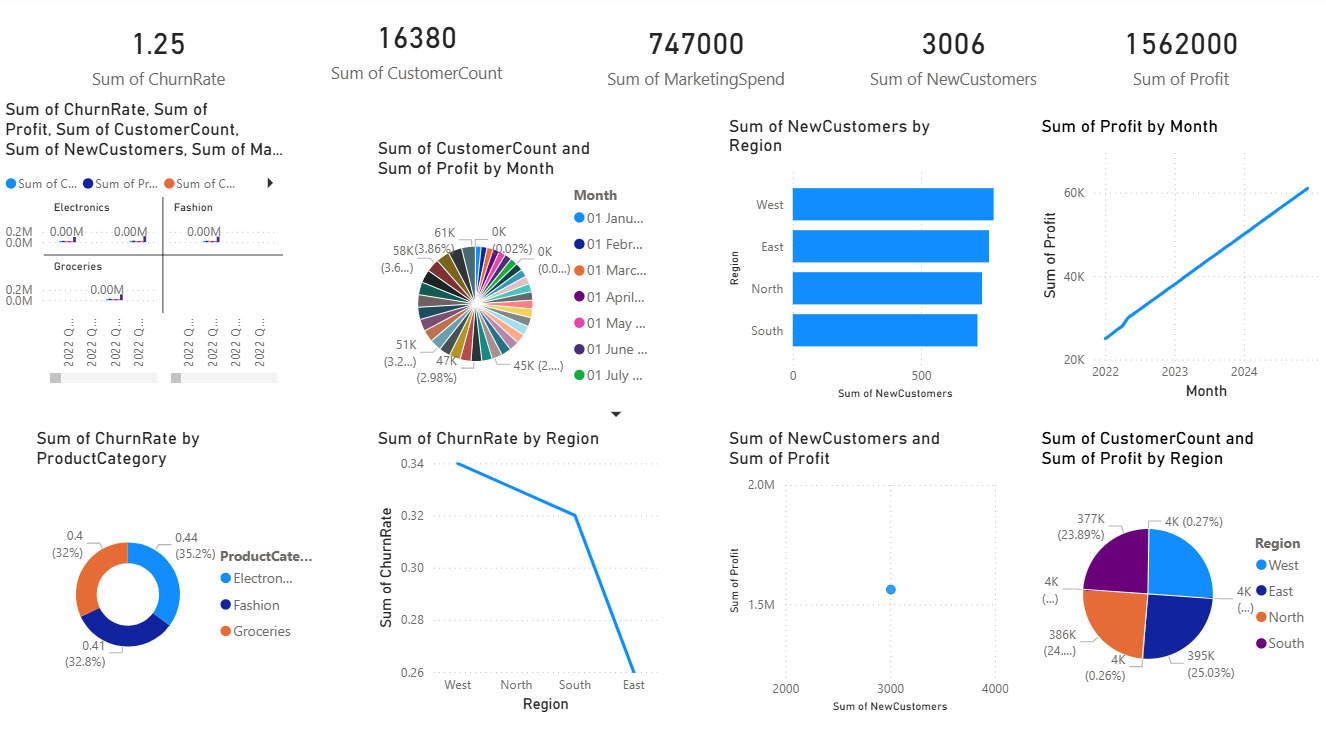

The dashboard page shown, as its layout file describes it:
{"tool":"powerbi","page":{"name":"Page 1","canvas":[1280,720],"ordinal":0},"visuals":[{"type":"clusteredColumnChart","fields":{"Y":["Sum(Data.ChurnRate)","Sum(Data.Profit)","Sum(Data.CustomerCount)","Sum(Data.NewCustomers)","Sum(Data.MarketingSpend)","Sum(Data.Revenue)"],"Category":["Data.Month.Variation.Date Hierarchy.Year","Data.Month.Variation.Date Hierarchy.Quarter","Data.Month.Variation.Date Hierarchy.Month","Data.Month.Variation.Date Hierarchy.Day","Data.Region"],"Rows":["Data.ProductCategory"]},"box":[0,100.1,279.9,279.9],"z":0},{"type":"card","fields":{"Values":["Sum(Data.MarketingSpend)"]},"box":[532,12.1,279.9,88.1],"z":2000},{"type":"card","fields":{"Values":["Sum(Data.NewCustomers)"]},"box":[780.6,12.1,279.9,88.1],"z":3000},{"type":"card","fields":{"Values":["Sum(Data.Profit)"]},"box":[1000.1,12.1,279.9,88.1],"z":4000},{"type":"card","fields":{"Values":["Sum(Data.ChurnRate)"]},"box":[13.3,12.1,279.9,88.1],"z":5000},{"type":"pieChart","fields":{"Category":["Data.Month"],"Y":["Sum(Data.CustomerCount)","Sum(Data.Profit)"]},"box":[359.5,137.5,279.9,279.9],"z":6000},{"type":"clusteredBarChart","fields":{"Category":["Data.Region"],"Y":["Sum(Data.NewCustomers)"]},"box":[698.5,115.8,279.9,279.9],"z":7000},{"type":"lineChart","fields":{"Category":["Data.Month"],"Y":["Sum(Data.Profit)"]},"box":[1000,116,280,280],"z":8000},{"type":"donutChart","fields":{"Category":["Data.ProductCategory"],"Y":["Sum(Data.ChurnRate)"]},"box":[30.2,417.4,279.9,281.1],"z":9000},{"type":"lineChart","fields":{"Category":["Data.Region"],"Y":["Sum(Data.ChurnRate)"]},"box":[360,418,280,280],"z":10000},{"type":"scatterChart","fields":{"X":["Sum(Data.NewCustomers)"],"Y":["Sum(Data.Profit)"]},"box":[699,418,280,280],"z":11000},{"type":"pieChart","fields":{"Category":["Data.Region"],"Y":["Sum(Data.CustomerCount)","Sum(Data.Profit)"]},"box":[1000,418,280,280],"z":12000},{"type":"card","fields":{"Values":["Sum(Data.CustomerCount)"]},"box":[252.1,0,300.4,100.1],"z":12001}]}

Visuals, with their boxes in screenshot pixels (x1, y1, x2, y2), scaled from the page's 1280x720 canvas onto the 1326x738 screenshot:
clusteredColumnChart - Sum(Data.ChurnRate) x Sum(Data.Profit): <bbox>0, 103, 290, 389</bbox>
card - Sum(Data.MarketingSpend): <bbox>551, 12, 841, 103</bbox>
card - Sum(Data.NewCustomers): <bbox>809, 12, 1099, 103</bbox>
card - Sum(Data.Profit): <bbox>1036, 12, 1325, 103</bbox>
card - Sum(Data.ChurnRate): <bbox>14, 12, 304, 103</bbox>
pieChart - Data.Month x Sum(Data.CustomerCount): <bbox>372, 141, 662, 428</bbox>
clusteredBarChart - Data.Region x Sum(Data.NewCustomers): <bbox>724, 119, 1014, 406</bbox>
lineChart - Data.Month x Sum(Data.Profit): <bbox>1036, 119, 1325, 406</bbox>
donutChart - Data.ProductCategory x Sum(Data.ChurnRate): <bbox>31, 428, 321, 716</bbox>
lineChart - Data.Region x Sum(Data.ChurnRate): <bbox>373, 428, 663, 715</bbox>
scatterChart - Sum(Data.NewCustomers) x Sum(Data.Profit): <bbox>724, 428, 1014, 715</bbox>
pieChart - Data.Region x Sum(Data.CustomerCount): <bbox>1036, 428, 1325, 715</bbox>
card - Sum(Data.CustomerCount): <bbox>261, 0, 572, 103</bbox>
